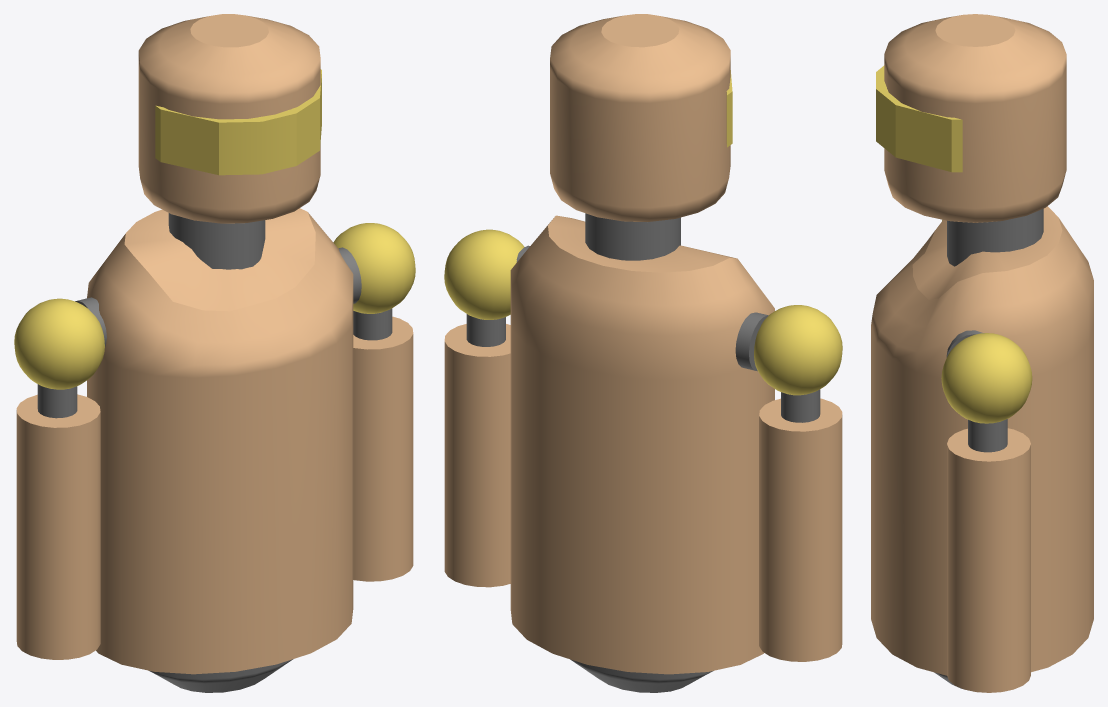
File: CyberDeath_RangedEnemy.fbx
3 views of the same model, side by side, from view 1: azimuth 30°, elevation 25°; view 2: azimuth 150°, elevation 25°; view 3: azimuth 270°, elevation 25° (orthographic).
Parts seen in each view (by area): view 1: pCylinder7; view 2: pCylinder7; view 3: pCylinder7.
Boxes of the visible parts, x1,y1,x2,y2 form: pCylinder7: (14, 14, 415, 692); pCylinder7: (444, 14, 842, 692); pCylinder7: (871, 14, 1093, 692).
Bounding box in the file's own units: 2.06 × 3.26 × 1.02.
